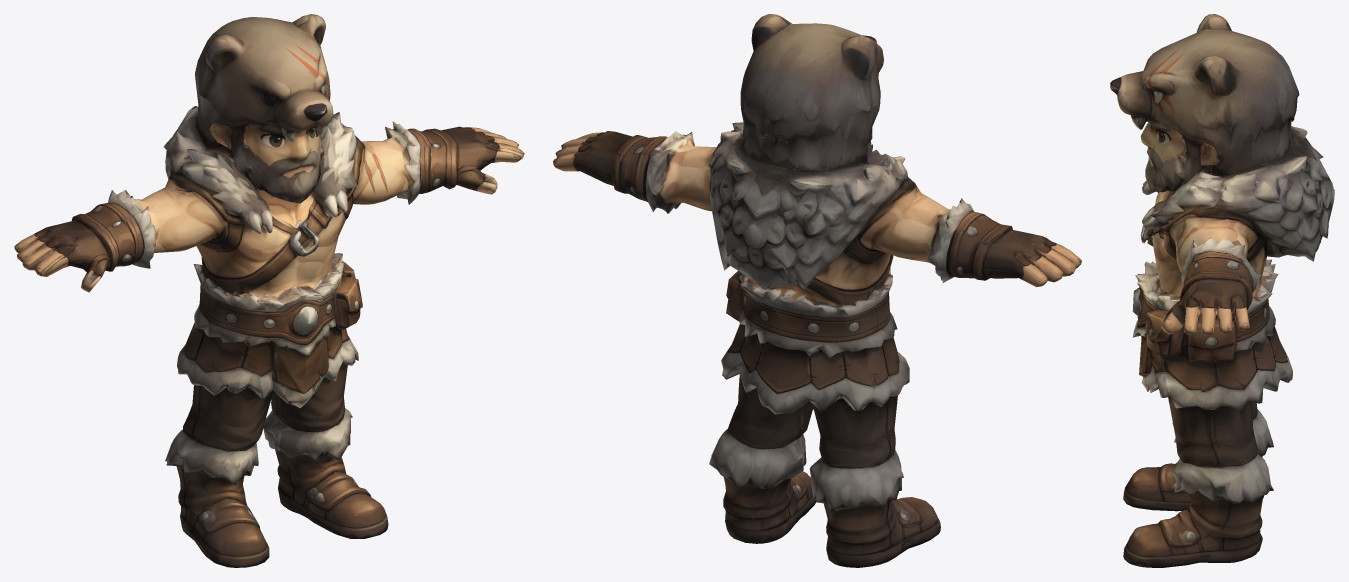
The model's file is barbaro_01.glb.
3 views of the same model, side by side, from view 1: azimuth 30°, elevation 25°; view 2: azimuth 150°, elevation 25°; view 3: azimuth 270°, elevation 25° (orthographic). The views are drawn at different scales.
Parts seen in each view (by area): view 1: Mesh1.0; view 2: Mesh1.0; view 3: Mesh1.0.
Part boxes in pixels (left/top/right/bottom): Mesh1.0: left=14, top=14, right=524, bottom=567; Mesh1.0: left=553, top=14, right=1081, bottom=567; Mesh1.0: left=1110, top=14, right=1334, bottom=567.
Bounding box in the file's own units: 1.91 × 1.82 × 0.7555.
1 material, 1 textured.
